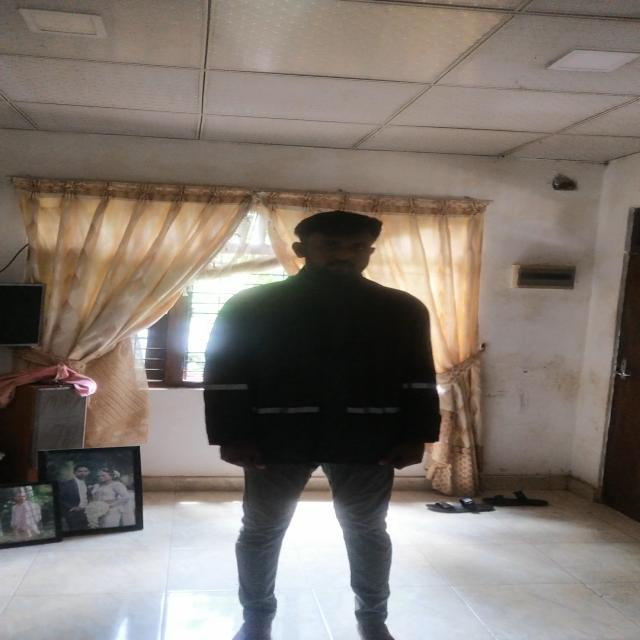Jacket_Wearer: (197, 262, 443, 476)
Person: (197, 202, 442, 640)
